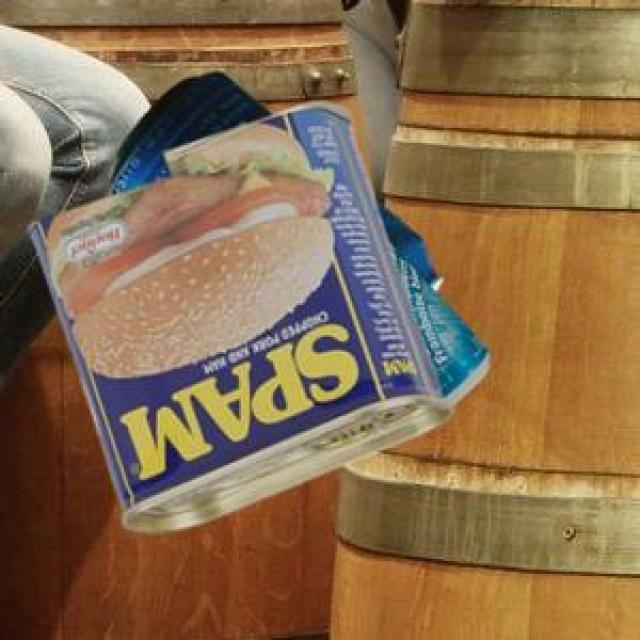Can: (27, 101, 449, 528), (106, 69, 438, 287), (386, 240, 485, 404)
